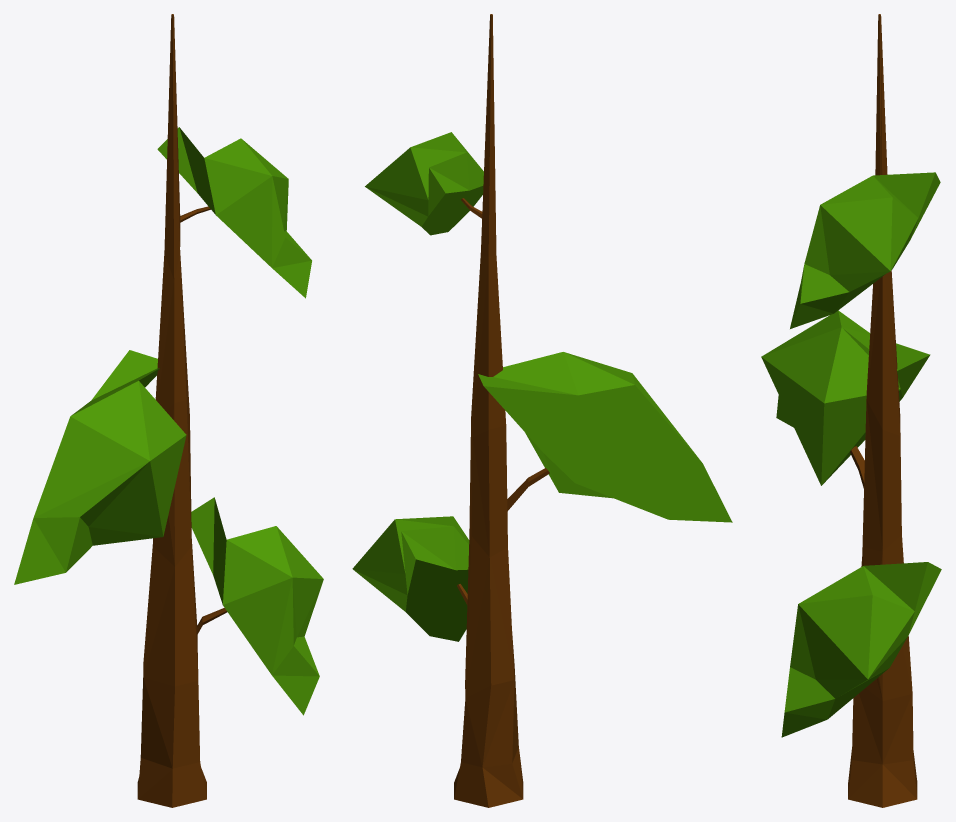
File: tree06.obj
3 views of the same model, side by side, from view 1: azimuth 30°, elevation 25°; view 2: azimuth 150°, elevation 25°; view 3: azimuth 270°, elevation 25° (orthographic).
Parts seen in each view (by area): view 1: Mesh80, Mesh79, Mesh78, Mesh77; view 2: Mesh80, Mesh79, Mesh78, Mesh77; view 3: Mesh80, Mesh78, Mesh79, Mesh77.
Part boxes in pixels (x1,y1,x2,y2): Mesh80: (137, 14, 227, 807); Mesh79: (14, 350, 186, 584); Mesh78: (191, 497, 323, 715); Mesh77: (157, 127, 311, 298); Mesh80: (454, 14, 549, 807); Mesh79: (478, 352, 732, 522); Mesh78: (352, 516, 469, 641); Mesh77: (365, 132, 483, 235); Mesh80: (848, 14, 917, 807); Mesh78: (781, 562, 941, 737); Mesh79: (761, 310, 930, 485); Mesh77: (790, 172, 940, 328).
Size of the model in its own units: 231 by 496 by 105.
